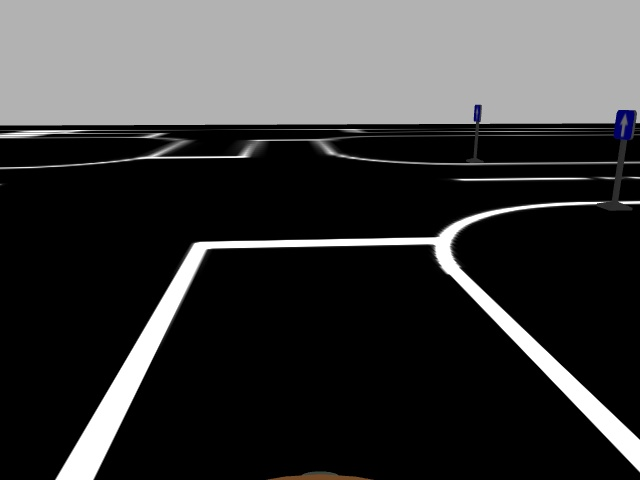oneway: (612, 109, 638, 144)
